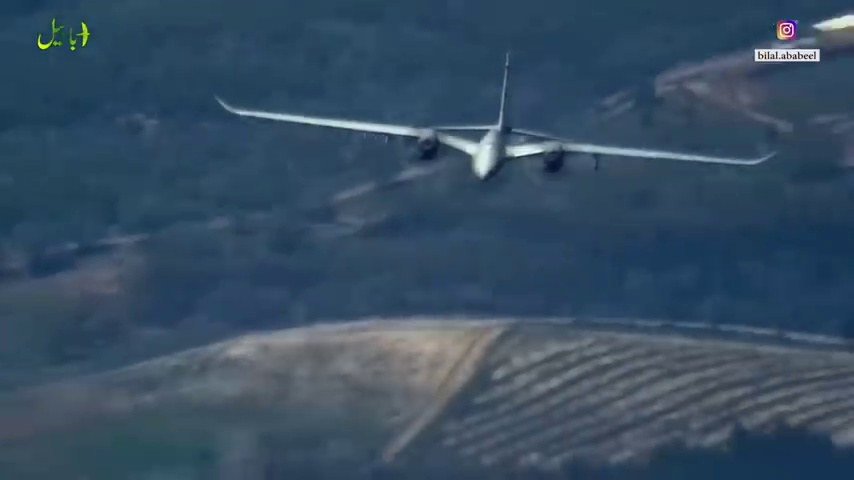military drone: (214, 53, 777, 182)
